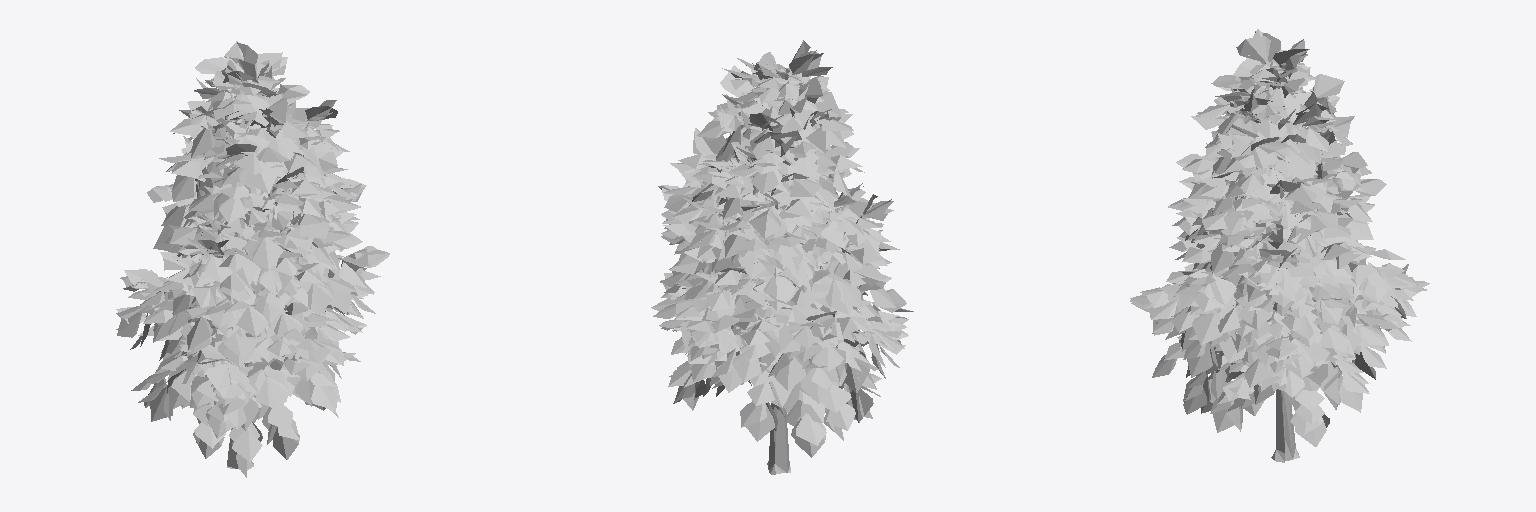
File: tree_lod2.obj
The picture shows the model from 3 angles: view 1: azimuth 30°, elevation 25°; view 2: azimuth 150°, elevation 25°; view 3: azimuth 270°, elevation 25°; orthographic projection.
Visible parts, largest first — view 1: Tree; view 2: Tree; view 3: Tree.
Part boxes in pixels (bbox=[...]): Tree: bbox=[116, 41, 389, 477]; Tree: bbox=[651, 40, 913, 474]; Tree: bbox=[1130, 29, 1429, 462].
Size of the model in its own units: 4.24 by 7.62 by 4.99.